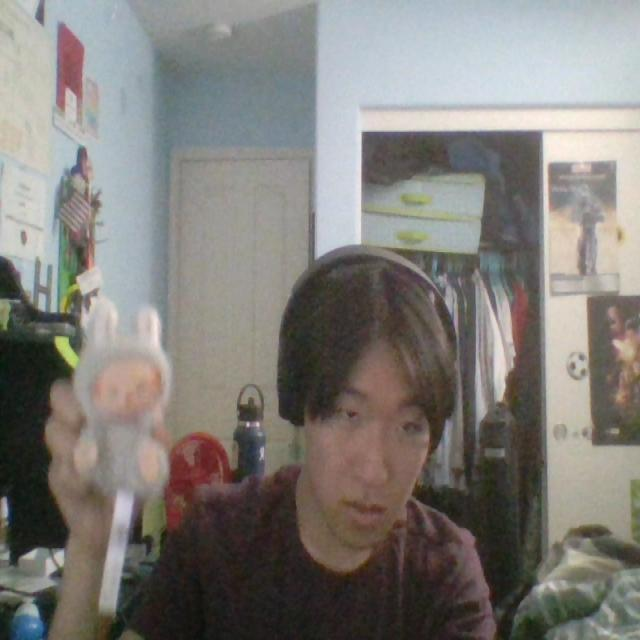labubu: (74, 300, 171, 500)
